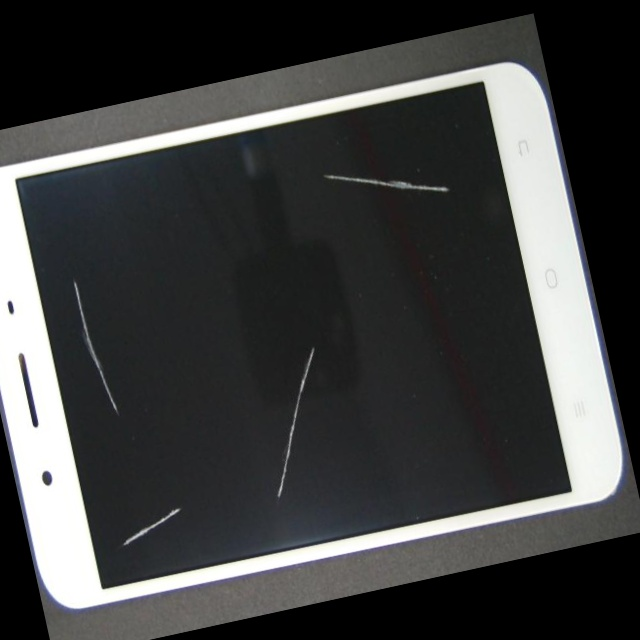scratch: (141, 105, 470, 564), (97, 280, 251, 635), (273, 118, 576, 268), (69, 335, 198, 497)
